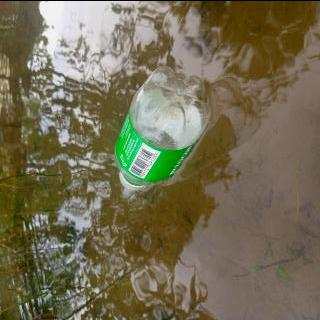bottle: (112, 64, 212, 190)
